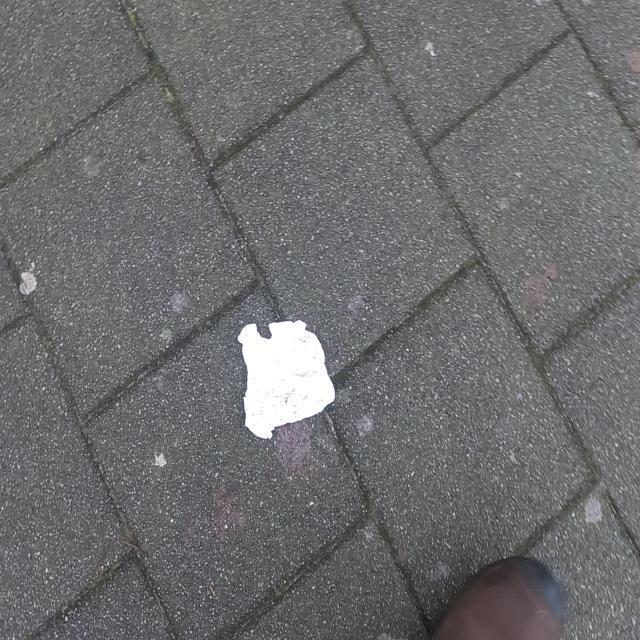Paper: (237, 320, 336, 440)
